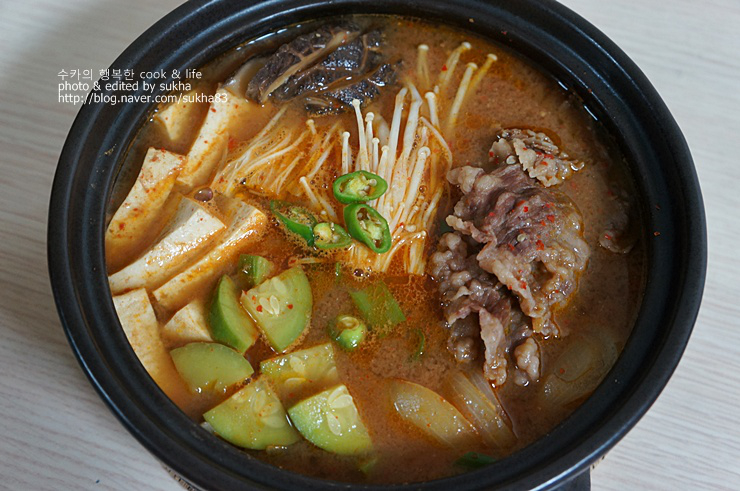doenjangjjigae: (97, 16, 643, 480)
